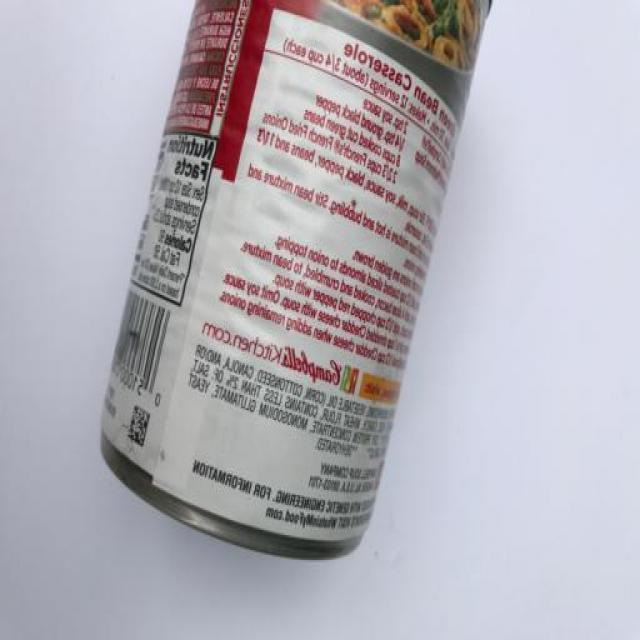metal: (94, 0, 500, 564)
